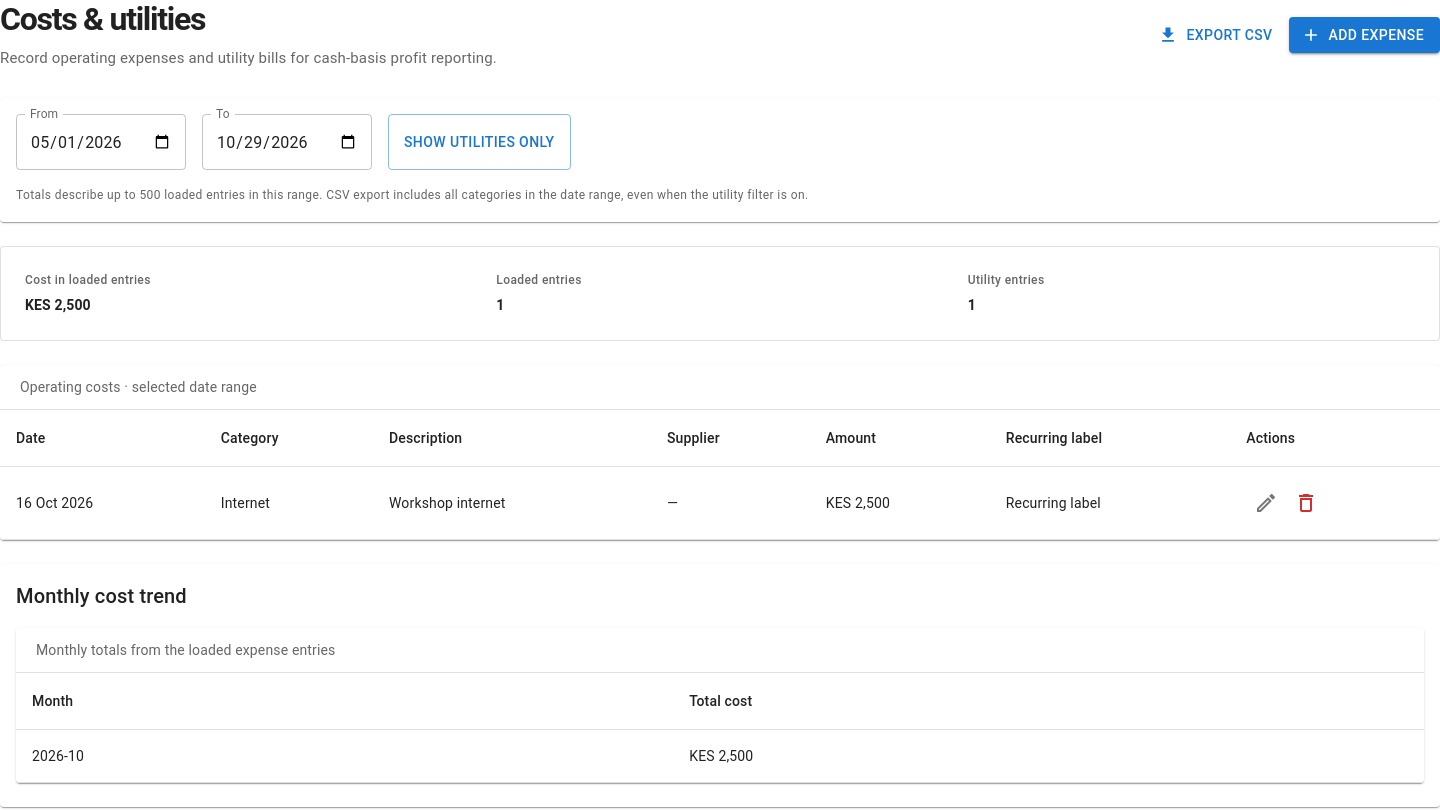
operating cost workflow › requires an audit reason before voiding an expense
The width and height of the screenshot is (1440, 810).
Click the button named "Void expense: Workshop internet".
click(1306, 503)  # box [1286,483,1326,523]
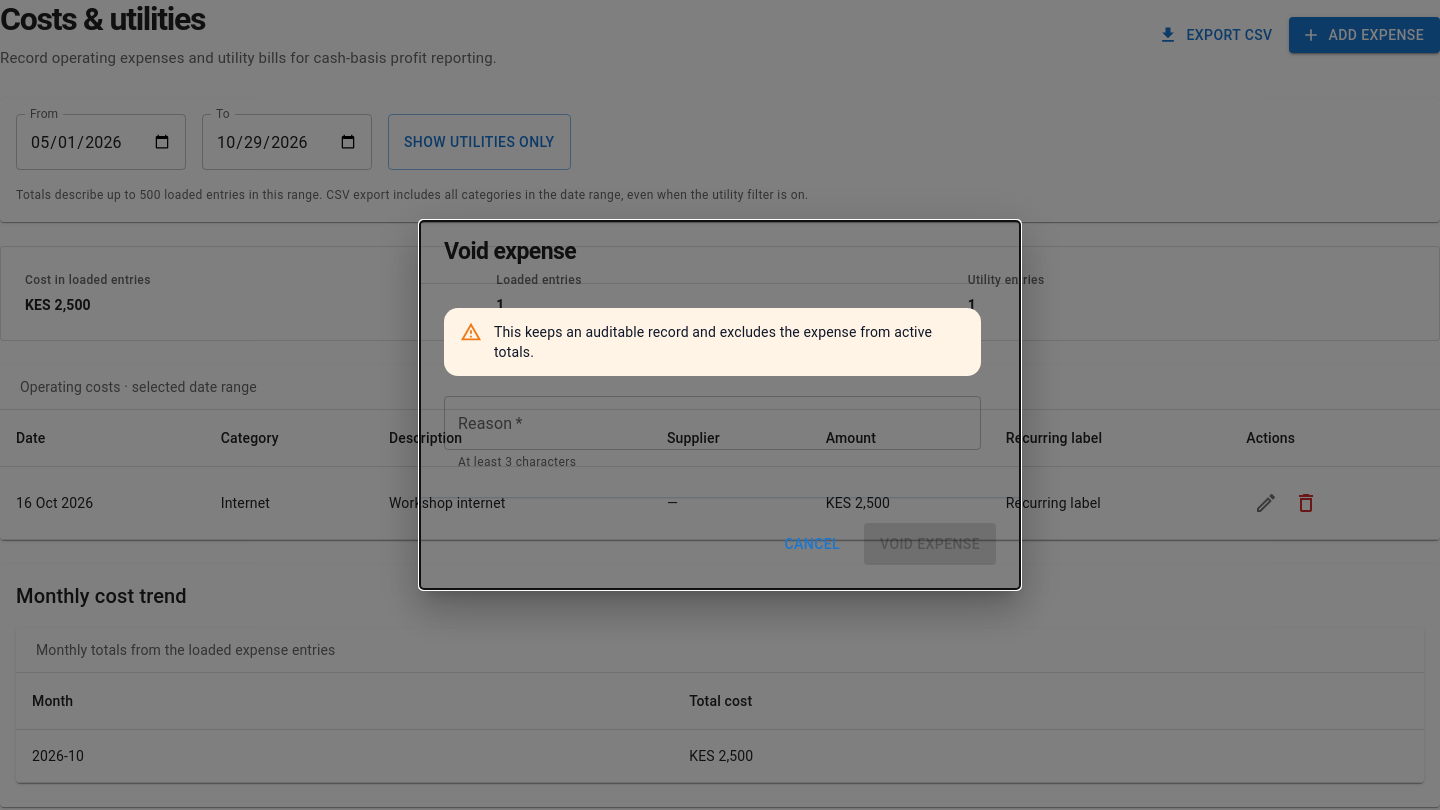
expect the button "Void expense" is disabled: met, box [864,523,996,565]
Type "Duplicate cost" into the field labelled "Reason".
click(712, 423); type("Duplicate cost")  # box [444,396,981,450]
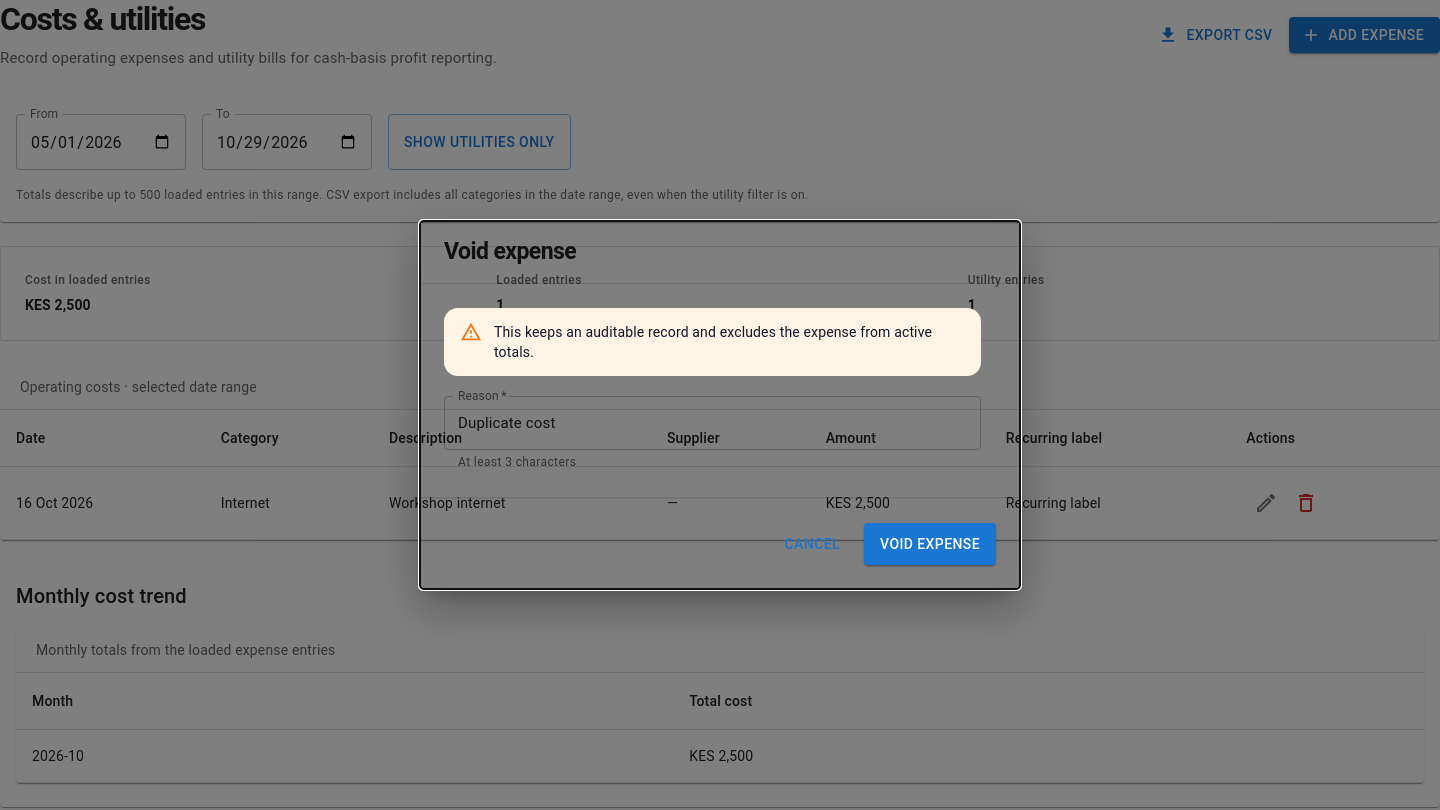
Click the button "Void expense".
click(930, 544)  # box [864,523,996,565]
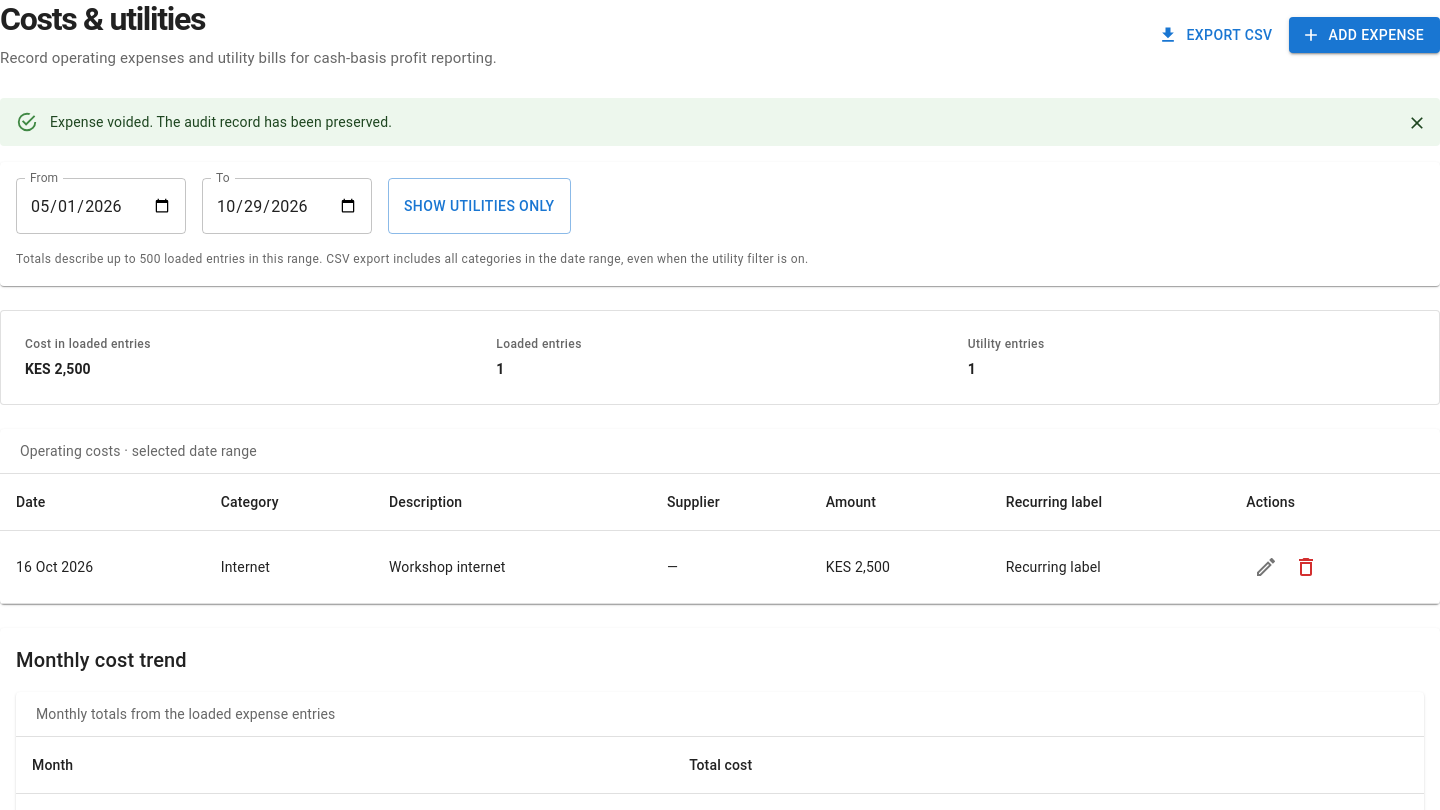
expect the text "Expense voided. The audit record has been preserved." is shown: met, box [50,114,392,130]
